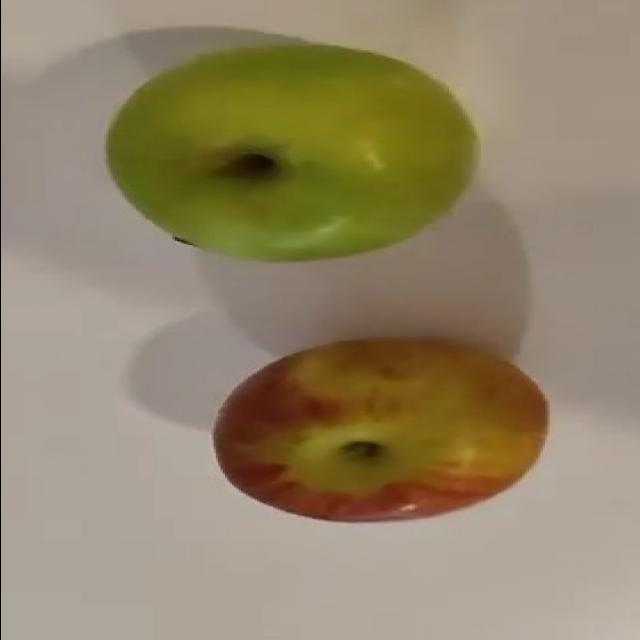Apple: (104, 42, 483, 258), (207, 338, 553, 524)
